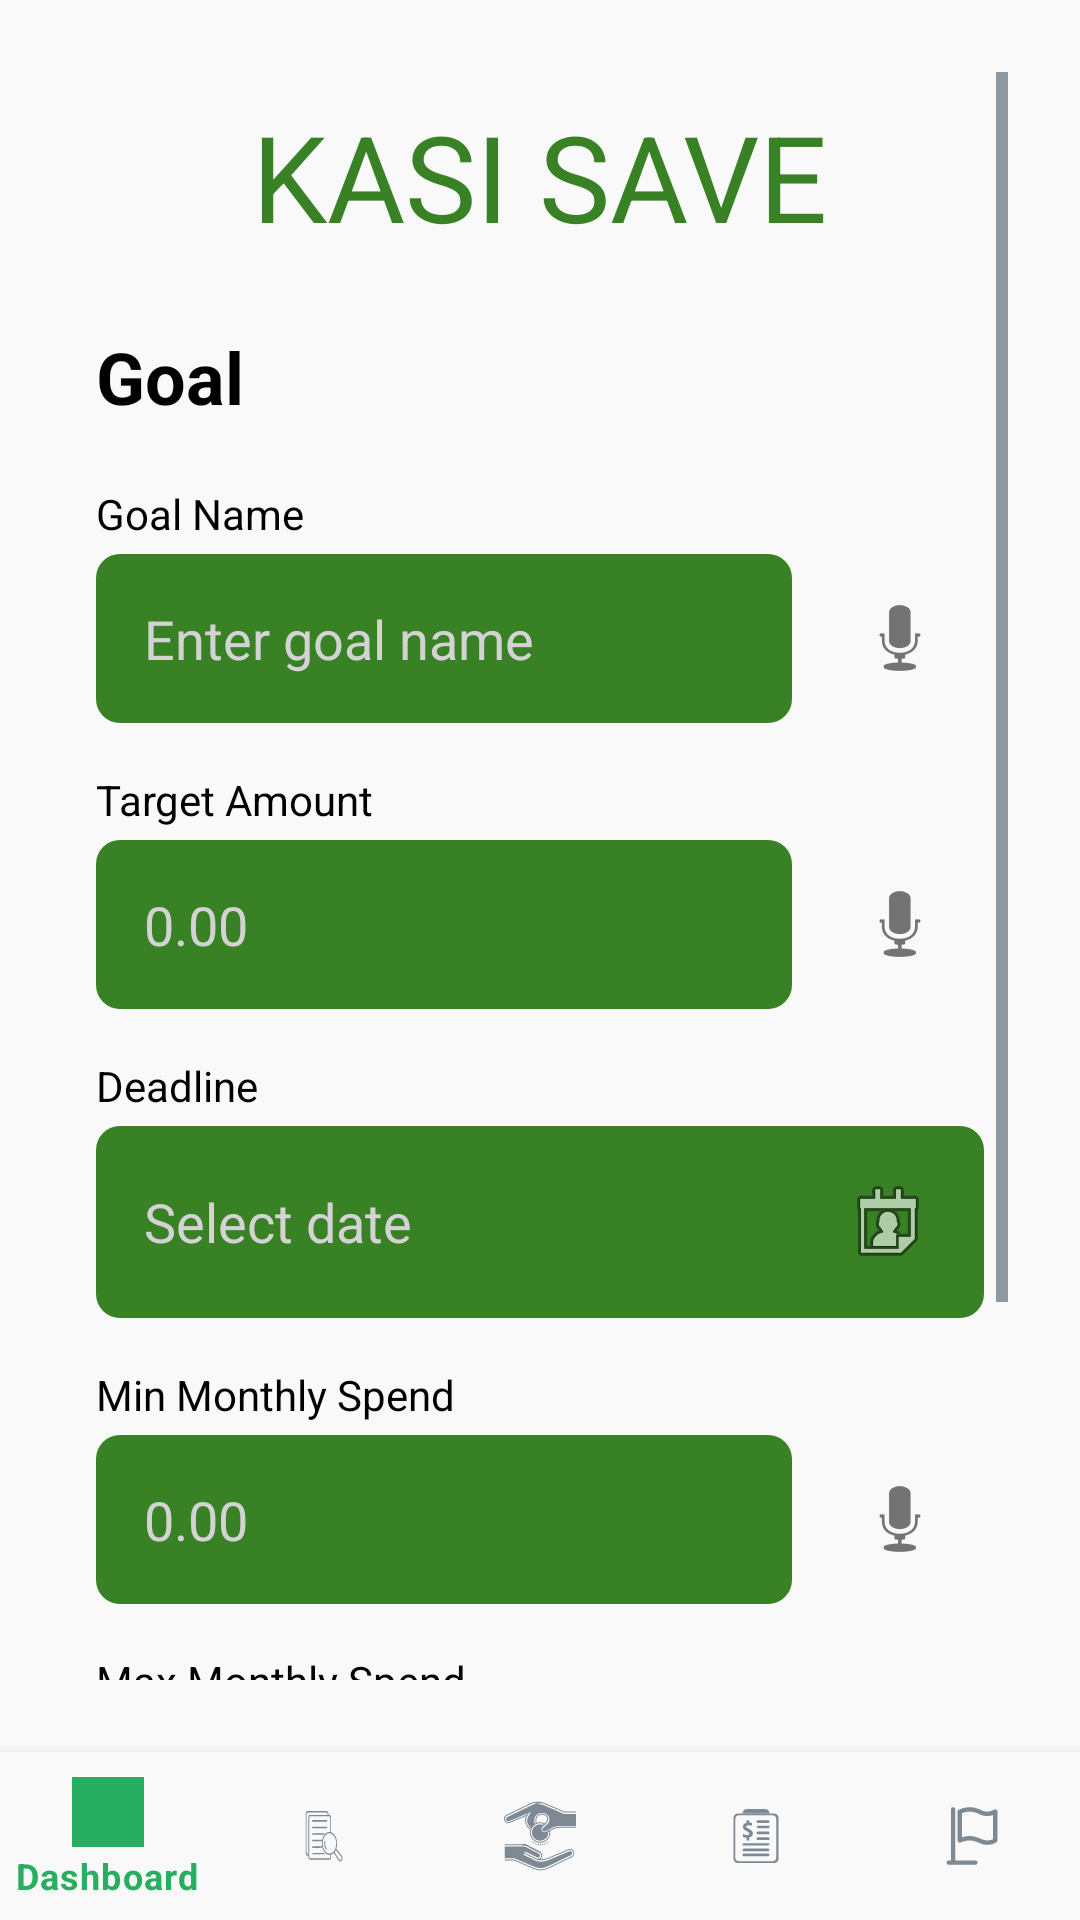

Named icons in this screenshot (1080x1920) and their centers, [x,y]:
Mic for Min Spend: [900,1519]
